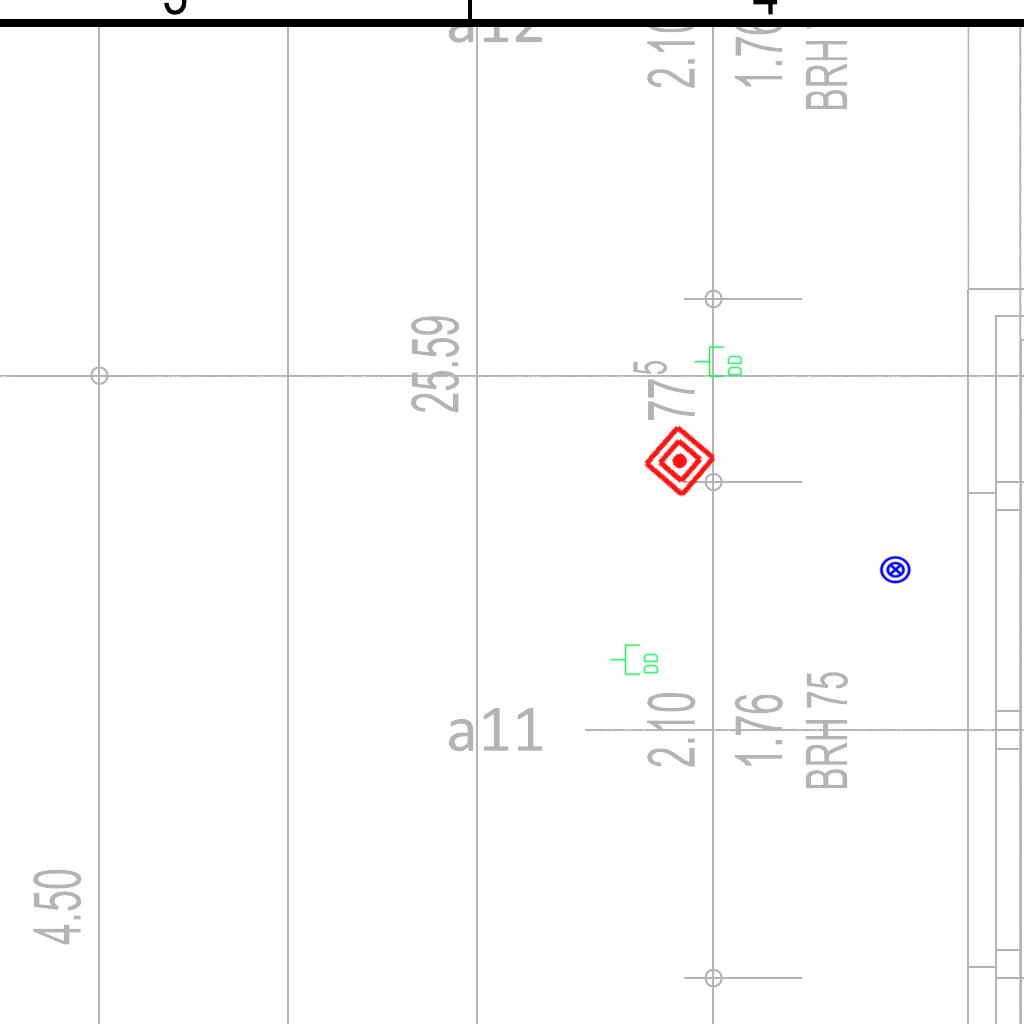Datenanschluss_zweifach: (693, 345, 744, 379), (609, 643, 660, 677)
NAM-Nichtautomatischer_Melder: (640, 421, 720, 501)
Taster_beleuchtet: (879, 553, 912, 586)
